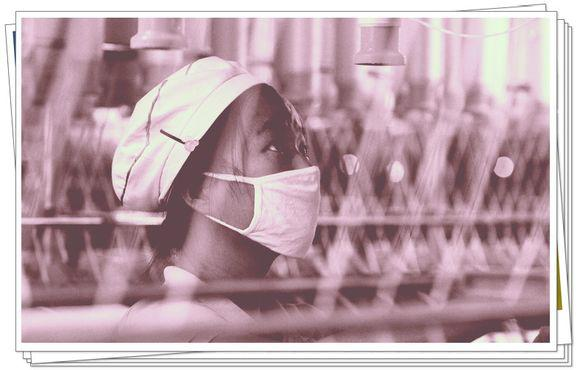OK: (191, 119, 329, 257)
